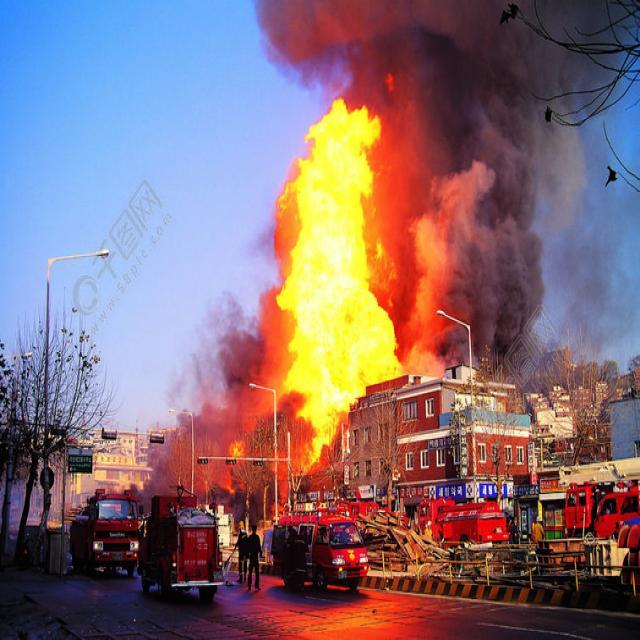Fire: (272, 99, 397, 442)
Smoke: (400, 100, 586, 376), (254, 0, 623, 97)
